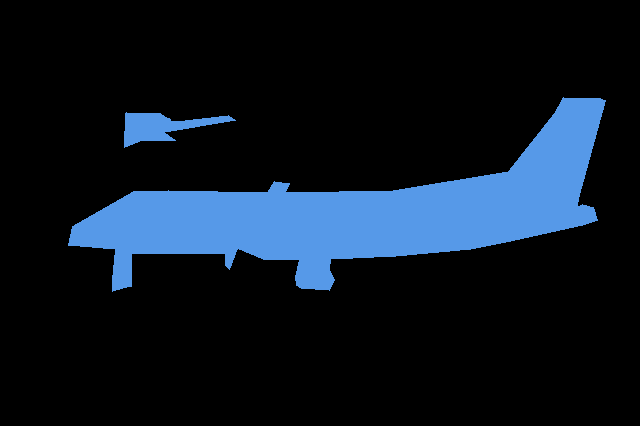Airplane: (68, 97, 606, 291), (124, 112, 235, 148)
